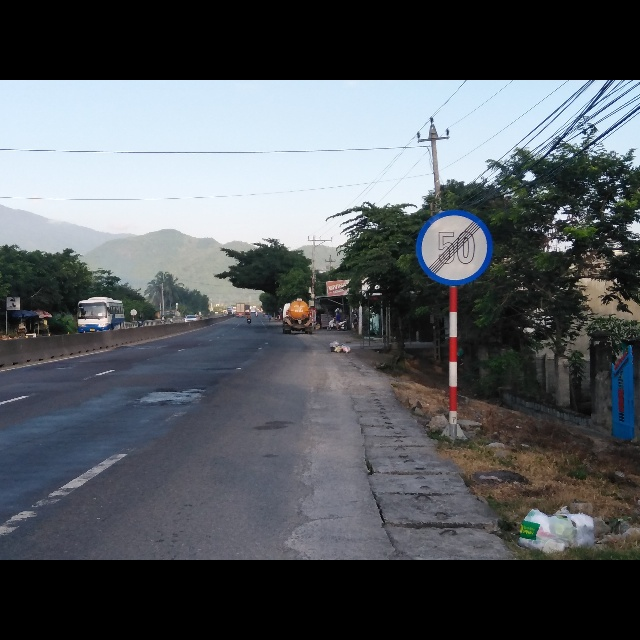Hết hạn chế tốc độ tối đa 50km/h: (414, 209, 495, 287)
